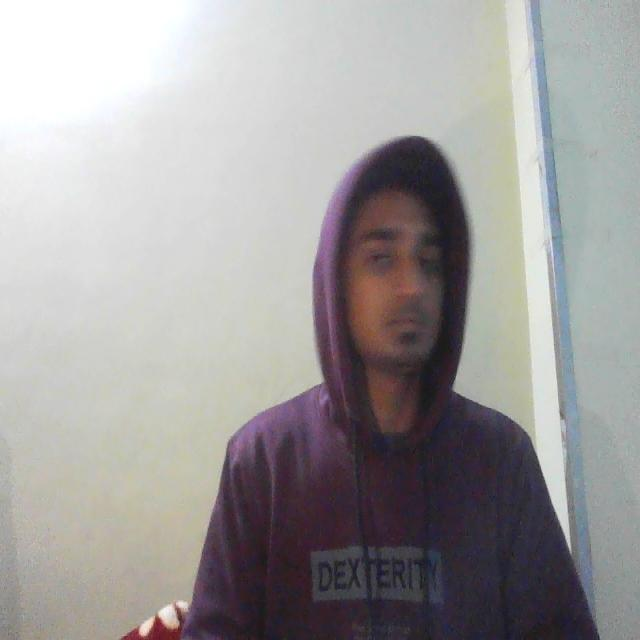real: (325, 135, 466, 401)
